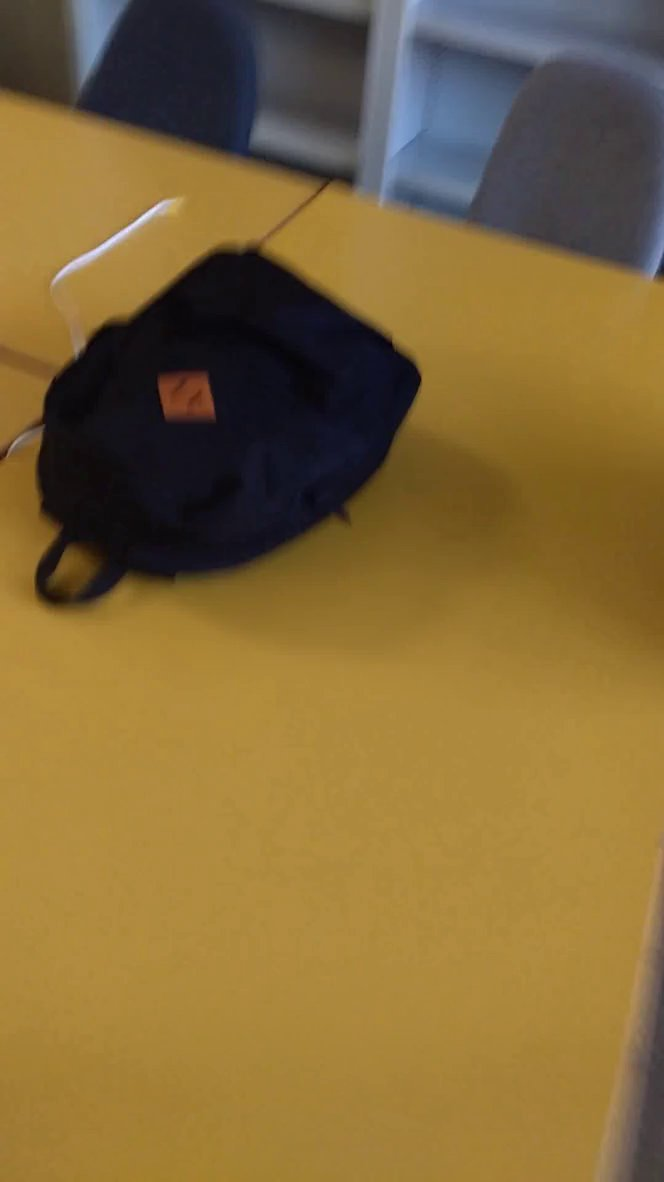bag: (23, 224, 434, 623)
chair: (454, 17, 664, 321)
